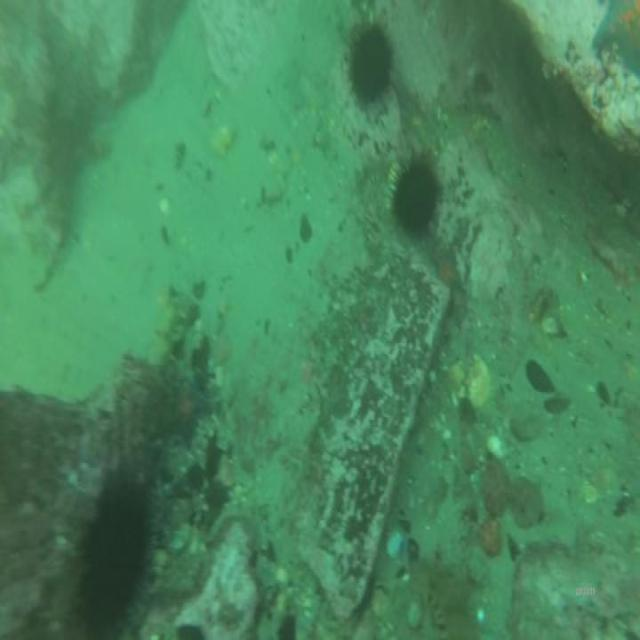echinus: (81, 485, 149, 639), (348, 26, 393, 108), (394, 163, 436, 234)
holothurian: (409, 561, 479, 640)
starfish: (592, 2, 640, 74), (172, 379, 210, 441), (429, 248, 462, 289)
